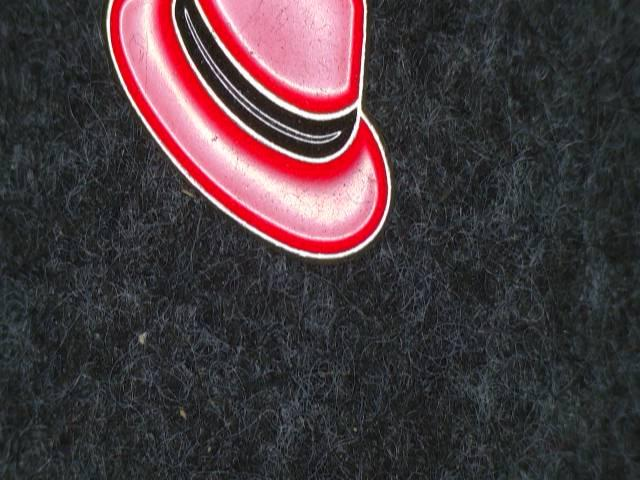Red-Hat: (92, 0, 422, 307)
